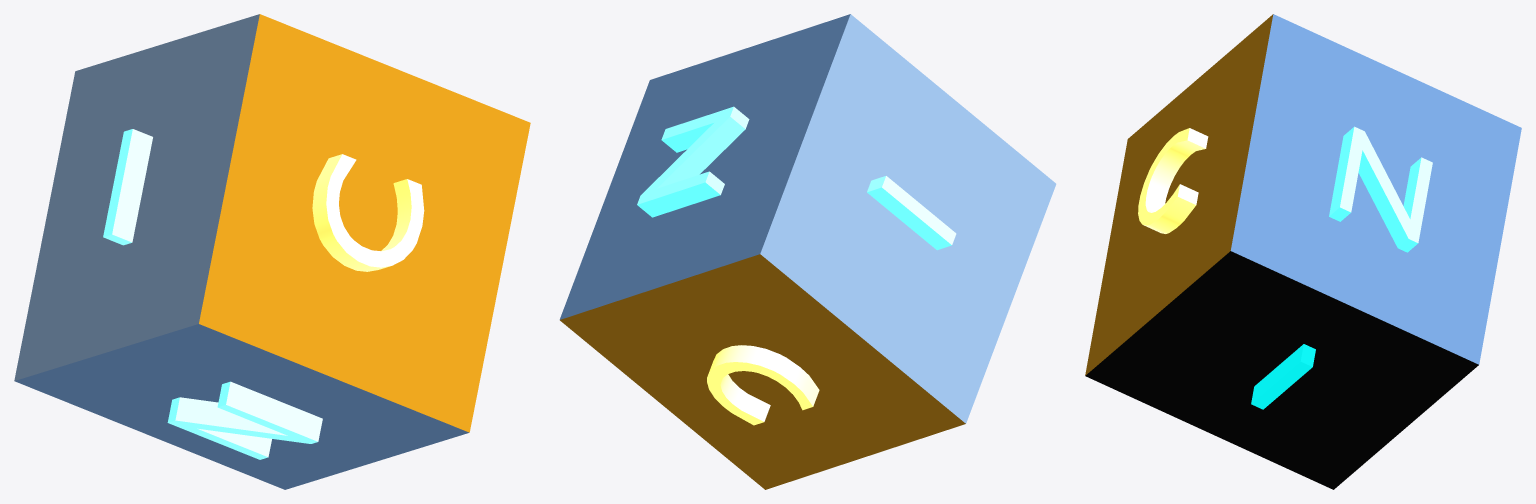
Rendered from inc1.glb.
3 views of the same model, side by side, from view 1: azimuth 30°, elevation 25°; view 2: azimuth 150°, elevation 25°; view 3: azimuth 270°, elevation 25° (orthographic). The views are drawn at different scales.
Visible parts, largest first — view 1: Cube, Text.004, Text.002, Text.001; view 2: Cube, Text.005, Text.003, Text.001; view 3: Cube, Text.005, Text.002, Text.
Part boxes in pixels (left/top/right/bottom): Cube: left=14, top=14, right=530, bottom=489; Text.004: left=167, top=381, right=322, bottom=459; Text.002: left=312, top=154, right=424, bottom=271; Text.001: left=103, top=129, right=152, bottom=245; Cube: left=559, top=14, right=1056, bottom=489; Text.005: left=637, top=106, right=749, bottom=217; Text.003: left=707, top=345, right=819, bottom=425; Text.001: left=867, top=176, right=956, bottom=250; Cube: left=1085, top=14, right=1521, bottom=489; Text.005: left=1329, top=126, right=1432, bottom=252; Text.002: left=1138, top=128, right=1208, bottom=233; Text: left=1251, top=344, right=1315, bottom=409.
Bounding box in the file's own units: 3 × 3.41 × 3.
12 materials, 1 textured.
